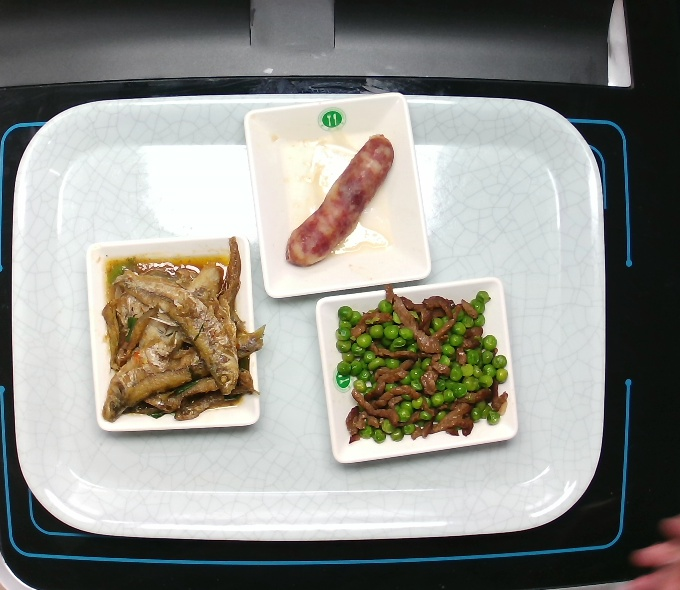wcq-CanDouNiuRou: (333, 284, 513, 448)
wcq-XiangChang: (282, 130, 400, 271)
wcq-XiaoJiYu: (99, 234, 270, 426)
